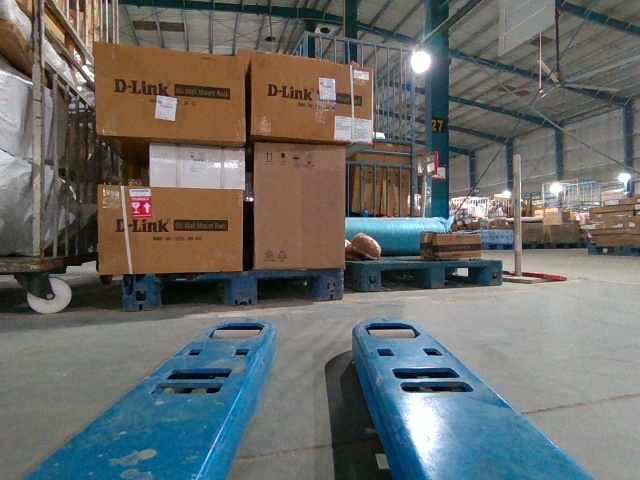block: (124, 276, 162, 313), (225, 269, 256, 304), (318, 268, 344, 300), (359, 262, 381, 291), (485, 259, 500, 283), (427, 260, 441, 285)
front: (122, 268, 344, 308), (358, 260, 500, 292)
hole pallet: (154, 273, 234, 306), (255, 273, 319, 301), (377, 265, 435, 288), (442, 262, 491, 286)
